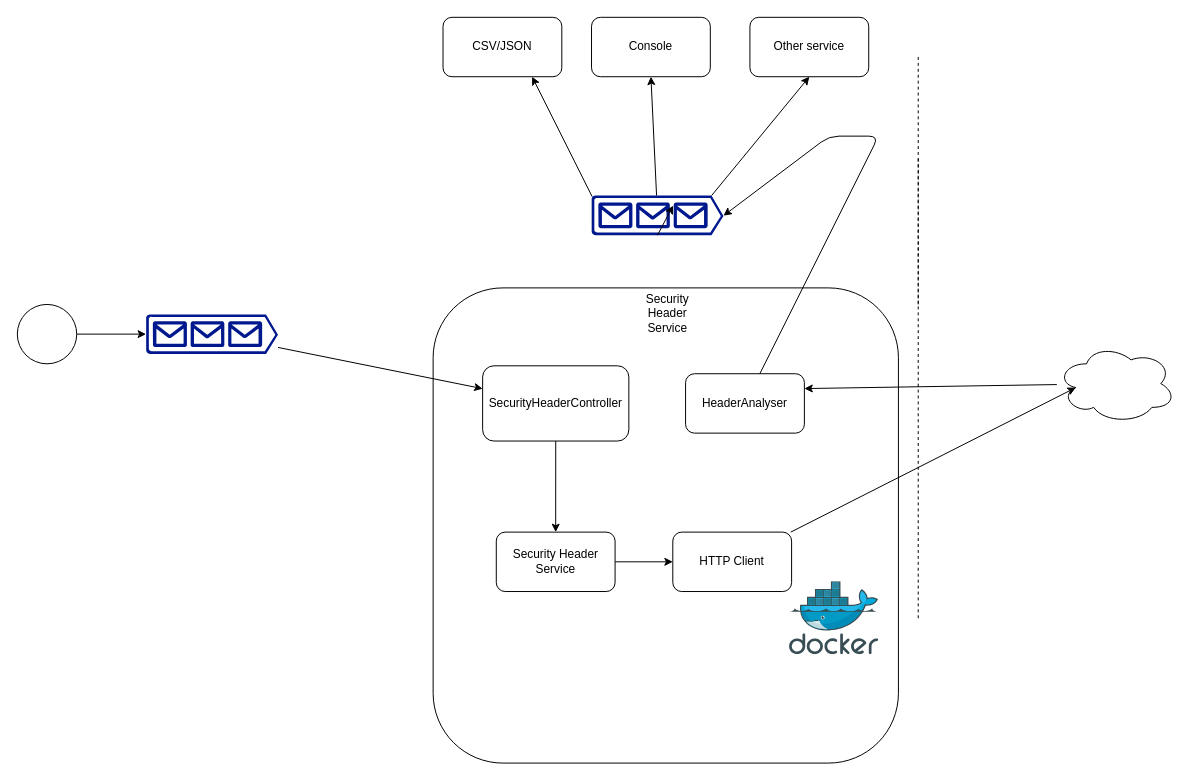
Image size: 1193x781. Some labels were removed from this diagram. The centre of each missing label's shape, as x and y in pixels:
Input Queue (can be a CLI input, can be HTTP can be Message): the point at 211,333
Internet: the point at 1116,383
Output queue: the point at 657,215
